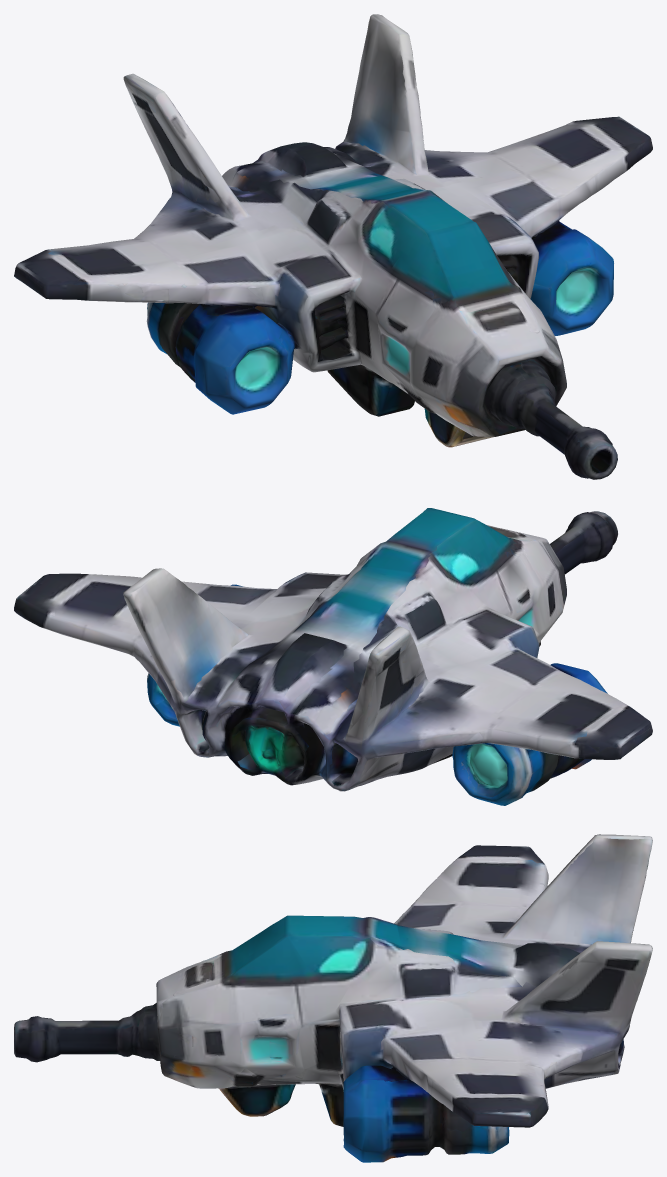
The picture shows the model from 3 angles, top to bottom: view 1: azimuth 30°, elevation 25°; view 2: azimuth 150°, elevation 25°; view 3: azimuth 270°, elevation 25°; orthographic projection. The views are drawn at different scales.
Parts seen in each view (by area): view 1: texture_pbr_v128; view 2: texture_pbr_v128; view 3: texture_pbr_v128.
Part boxes in pixels (x1,y1,x2,y2): texture_pbr_v128: [14, 14, 652, 479]; texture_pbr_v128: [14, 508, 652, 805]; texture_pbr_v128: [14, 834, 652, 1162].
Bounding box in the file's own units: 1.02 × 0.3851 × 1.02.
1 material, 1 textured.
